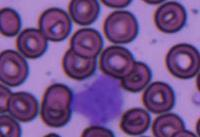L: (74, 73, 123, 126)
